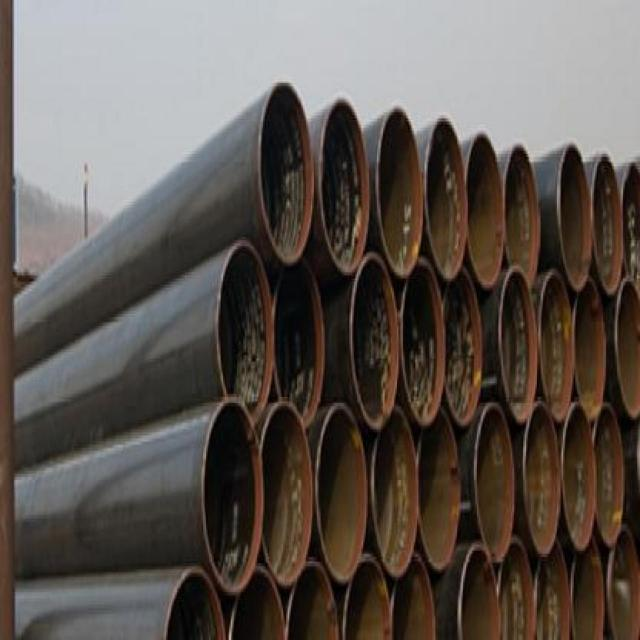pipe: (197, 393, 264, 601), (250, 77, 321, 269), (210, 236, 278, 421), (256, 398, 317, 592), (313, 399, 371, 586), (315, 93, 374, 275), (395, 255, 452, 425), (347, 252, 401, 431), (372, 103, 426, 281), (271, 260, 327, 431), (369, 414, 423, 581), (473, 402, 523, 564), (421, 113, 468, 281), (418, 407, 465, 572), (463, 127, 510, 290), (441, 259, 486, 427), (519, 400, 564, 560), (493, 264, 538, 424), (500, 142, 545, 293), (536, 264, 576, 422), (553, 140, 595, 290), (560, 410, 603, 552), (570, 279, 610, 424), (586, 151, 625, 299), (591, 406, 630, 549), (159, 564, 230, 640), (339, 550, 392, 640), (453, 543, 502, 640), (228, 564, 290, 640), (496, 536, 539, 640), (286, 561, 341, 640), (387, 559, 439, 640), (606, 523, 640, 640), (536, 545, 576, 640), (569, 545, 608, 640), (615, 274, 640, 420)
